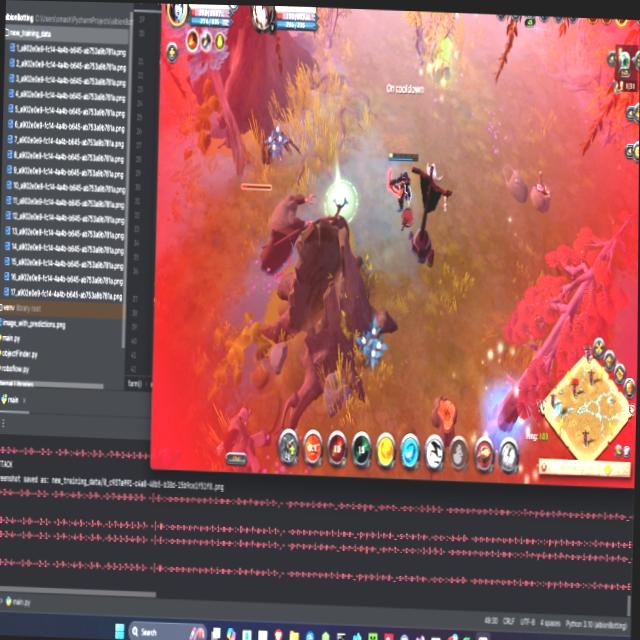hide: (352, 313, 391, 380), (261, 121, 292, 170)
ore: (234, 179, 317, 278)
red: (383, 148, 421, 218)
wisp caged: (483, 197, 639, 453), (168, 4, 258, 178)
